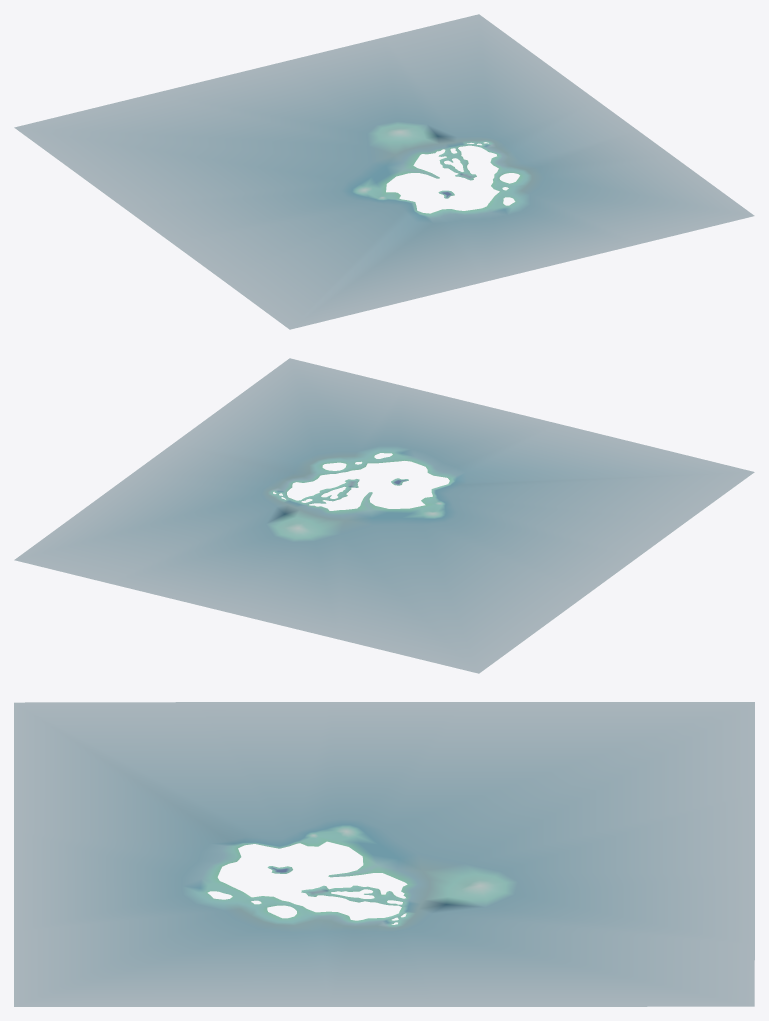
The model's file is water.FBX.
3 renders of one model, top to bottom at view 1: azimuth 30°, elevation 25°; view 2: azimuth 150°, elevation 25°; view 3: azimuth 270°, elevation 25°, orthographic. The views are drawn at different scales.
Parts seen in each view (by area): view 1: water; view 2: water; view 3: water.
Part boxes in pixels (x1,y1,x2,y2): water: (14,14,754,329); water: (14,358,754,673); water: (14,702,754,1006).
Bounding box in the file's own units: 38520 × 305 × 39580.
